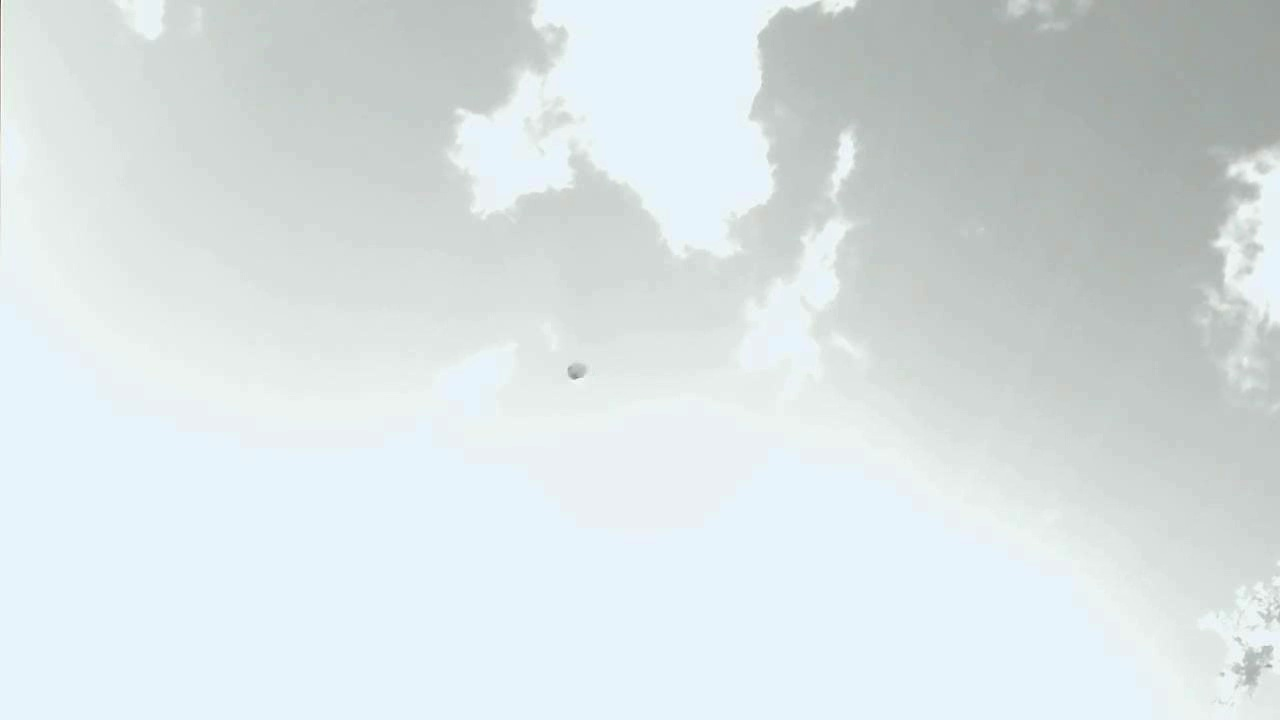Football-Spotter: (568, 362, 586, 378)
